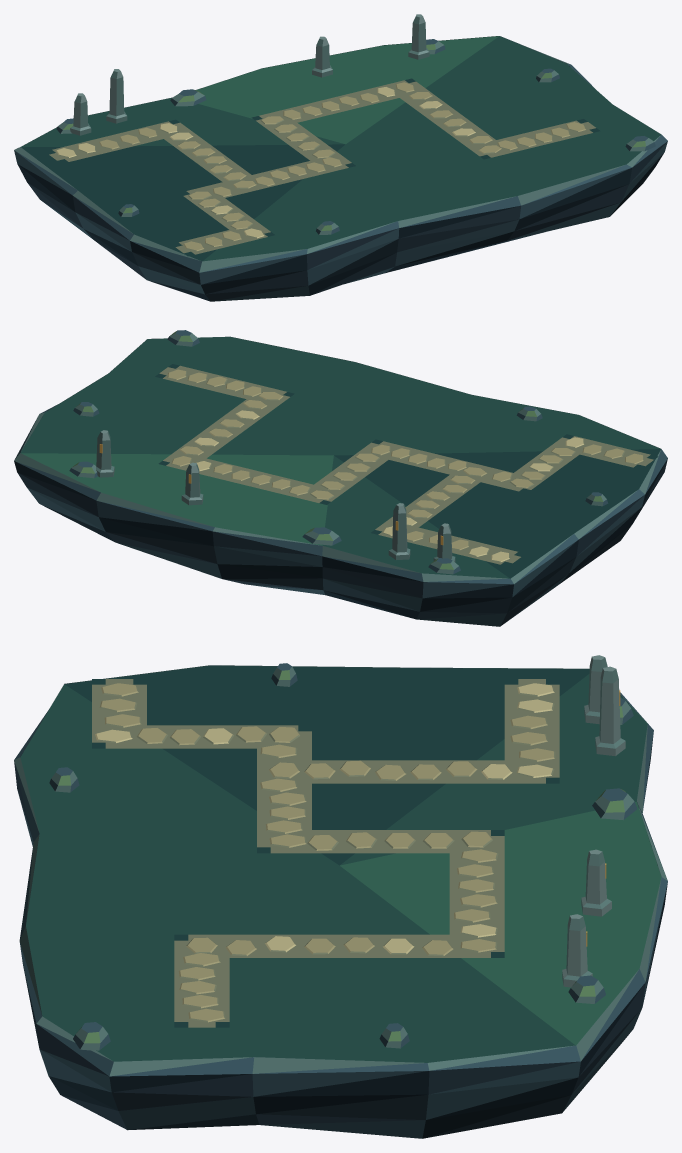
Rendered from world.glb.
3 views of the same model, one above another, from view 1: azimuth 30°, elevation 25°; view 2: azimuth 150°, elevation 25°; view 3: azimuth 270°, elevation 25° (orthographic). The views are drawn at different scales.
Visible parts, largest first — view 1: Floating_cliff_strata; view 2: Floating_cliff_strata; view 3: Floating_cliff_strata.
Boxes of the visible parts, left/top/right/bottom form: Floating_cliff_strata: left=14, top=14, right=667, bottom=301; Floating_cliff_strata: left=14, top=330, right=667, bottom=626; Floating_cliff_strata: left=14, top=655, right=667, bottom=1138.
Size of the model in its own units: 34.88 by 7.91 by 23.77.
